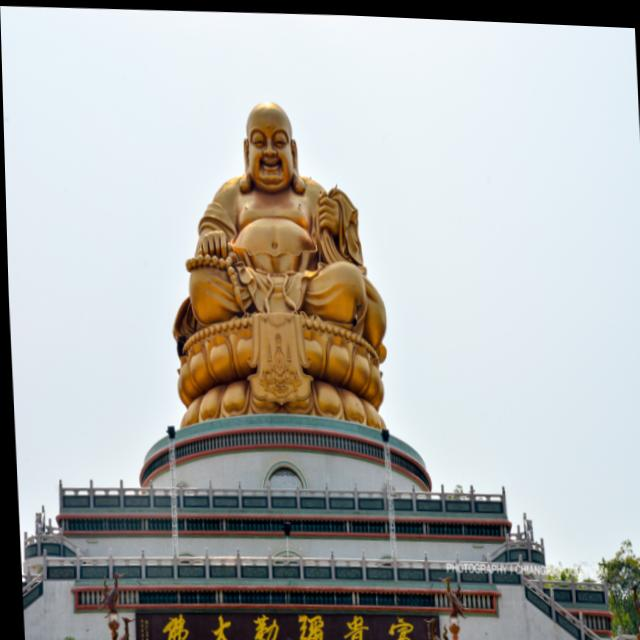Smiling Buddha: (169, 85, 376, 344)
